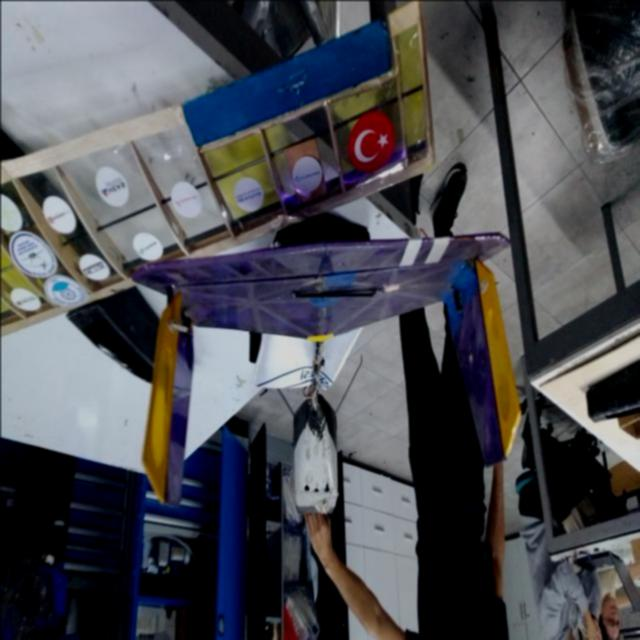plane: (0, 1, 435, 384), (128, 232, 520, 519)
